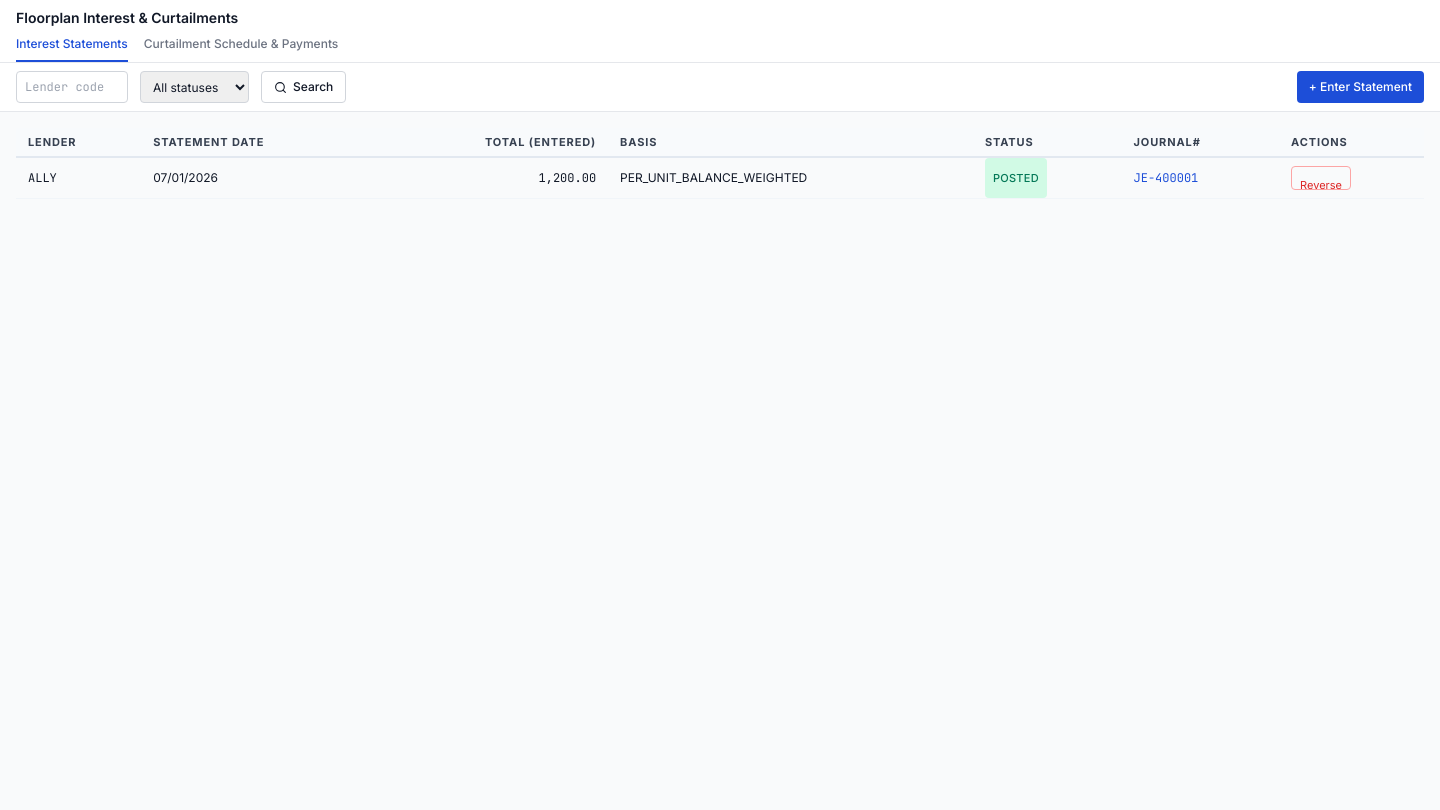
Test: FloorplanInterestCurtailments — Interest Statements tab › drills into the real coa-service journal from a posted interest statement row
Click the button with test id "journal-drill-link-stmt-1". click: x=1166, y=178
box: [1134,160,1198,196]
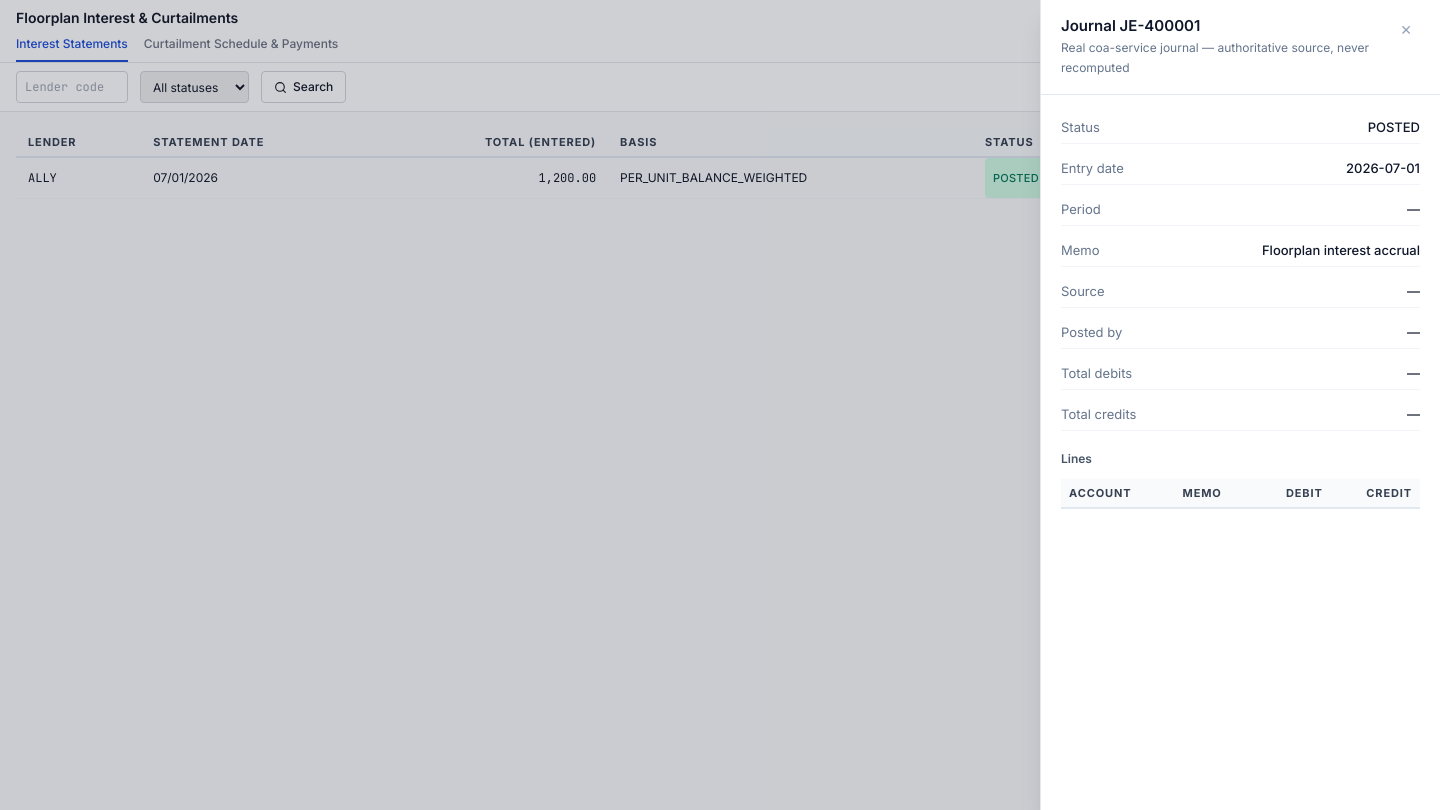
Expected: the dialog with test id "ce12-journal-drill-drawer" is shown, [1040,0,1439,809]
